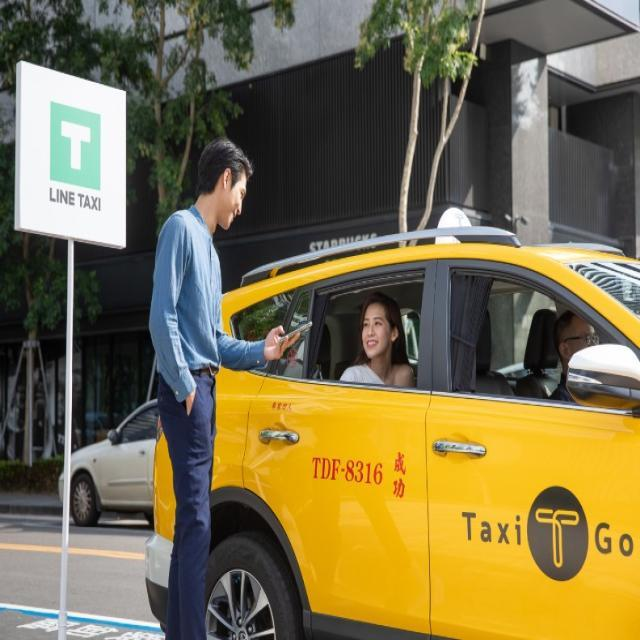taxi: (127, 206, 640, 608)
